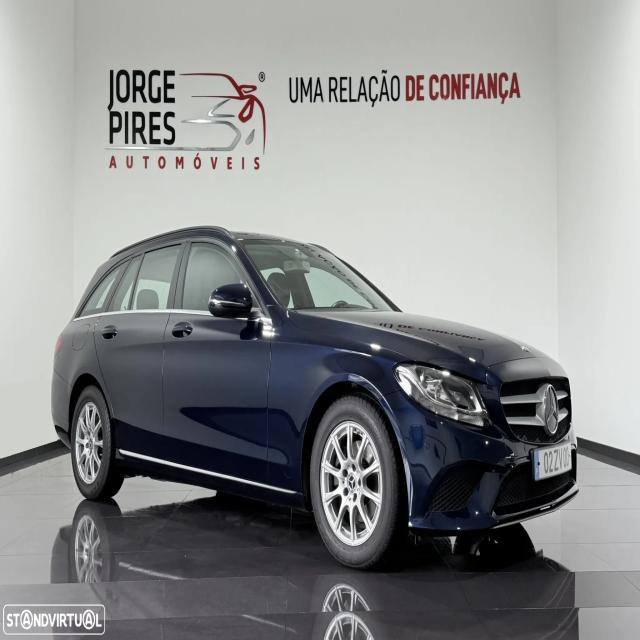portuguese-license-plates: (533, 442, 572, 481)
